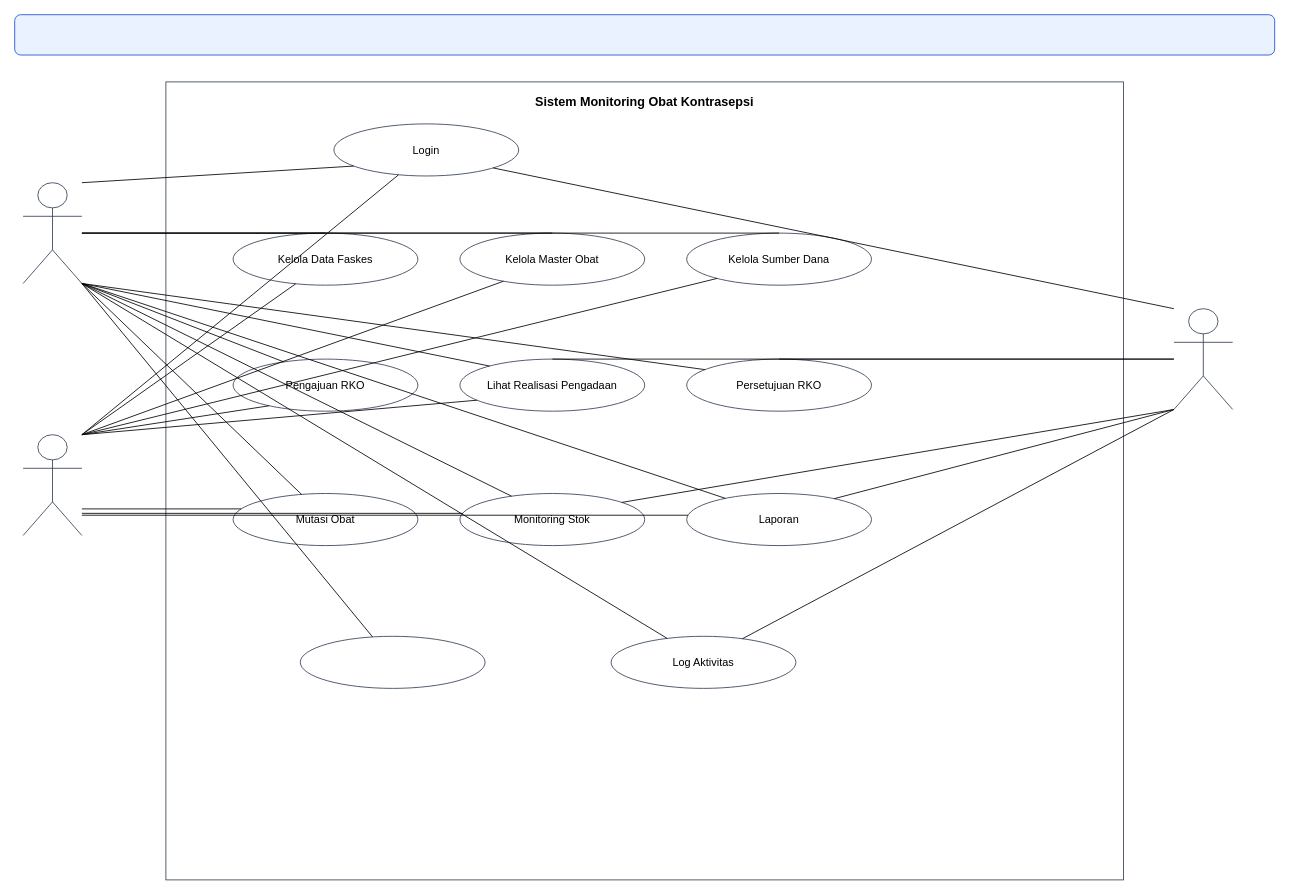
Image size: 1289x895. Some labels were removed from this diagram. Each missing label, with the centre of its shape:
4.1.2 Rancangan Use Case Diagram Usulan: the point at 644,34
Admin: the point at 52,233
Gudang: the point at 52,485
Manajemen Pengguna: the point at 392,661
Pimpinan: the point at 1203,359
